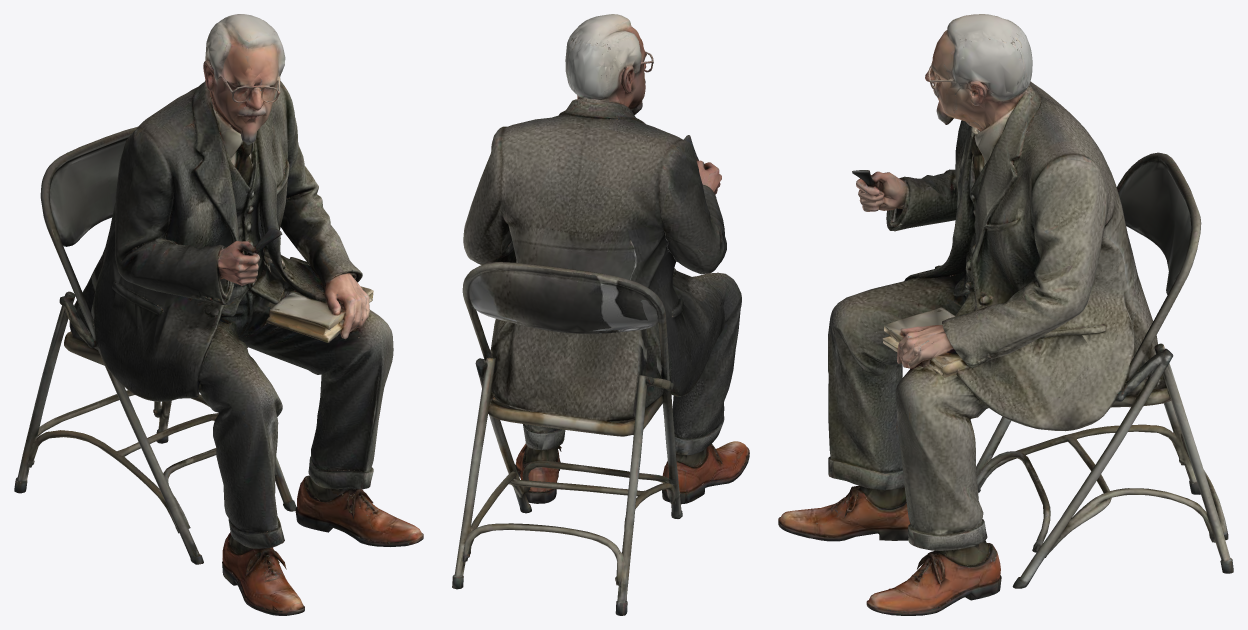
Rendered from carl_jung_metal_foldout_chair.glb.
The picture shows the model from 3 angles, left to right: view 1: azimuth 30°, elevation 25°; view 2: azimuth 150°, elevation 25°; view 3: azimuth 270°, elevation 25°; orthographic projection. The views are drawn at different scales.
Size of the model in its own units: 1.04 by 2 by 1.54.
Materials: 1 (1 with a texture image).
